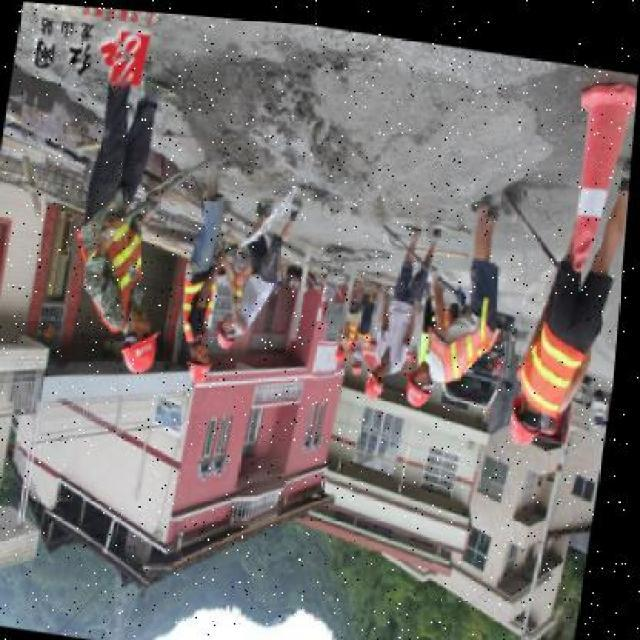helmet: (122, 326, 165, 372), (506, 394, 546, 441), (357, 358, 395, 392), (406, 367, 436, 407), (191, 356, 215, 382)
